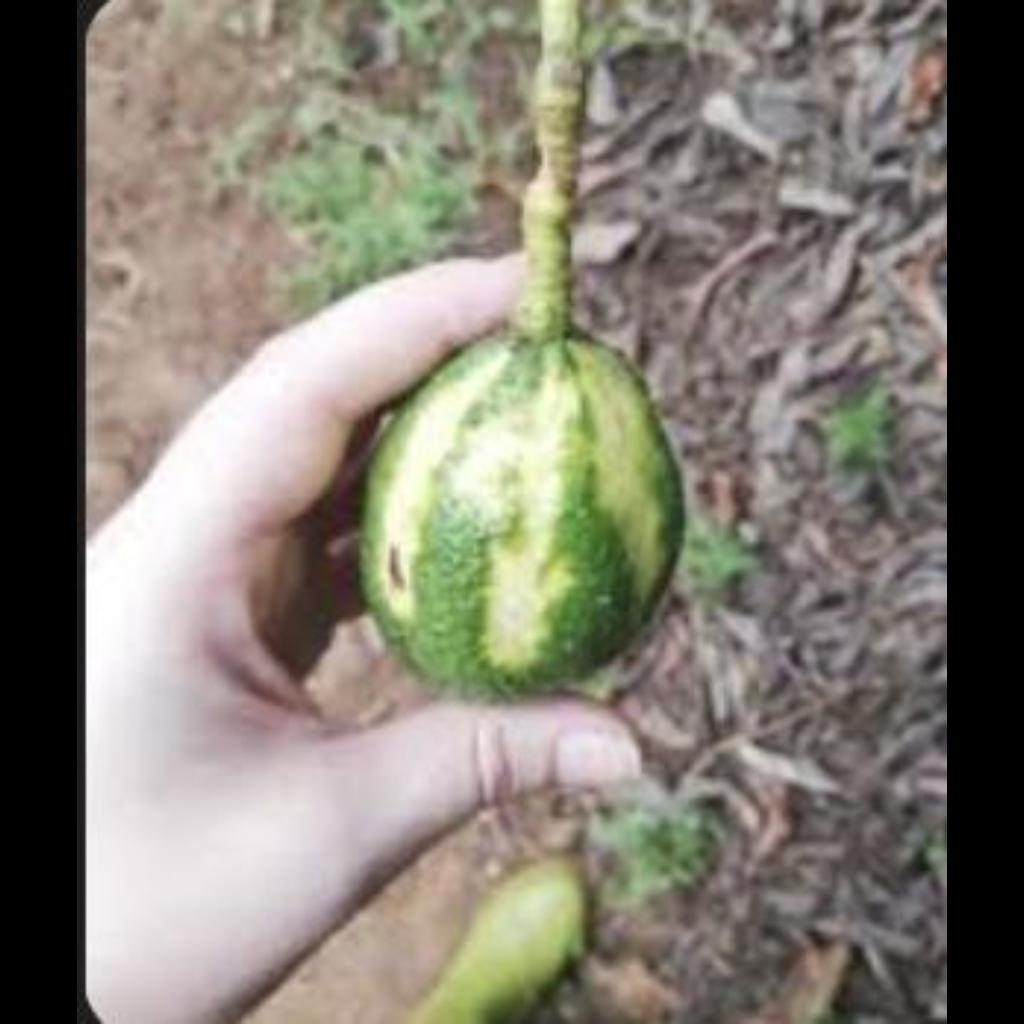sunblotch: (364, 302, 694, 730)
